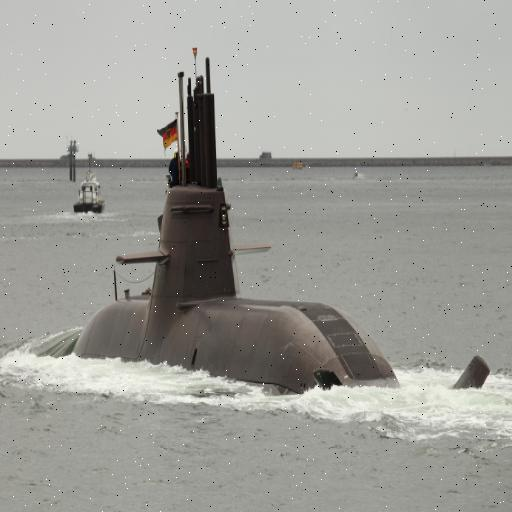submarine: (72, 55, 493, 395)
